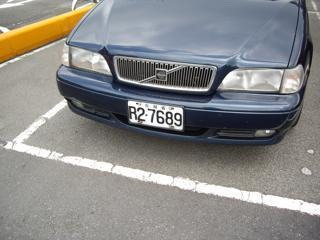plate: (125, 98, 185, 133)
